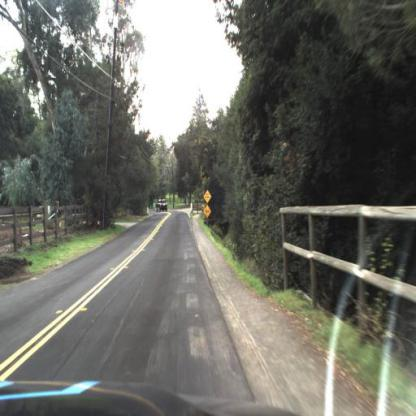car: (157, 201, 168, 215)
